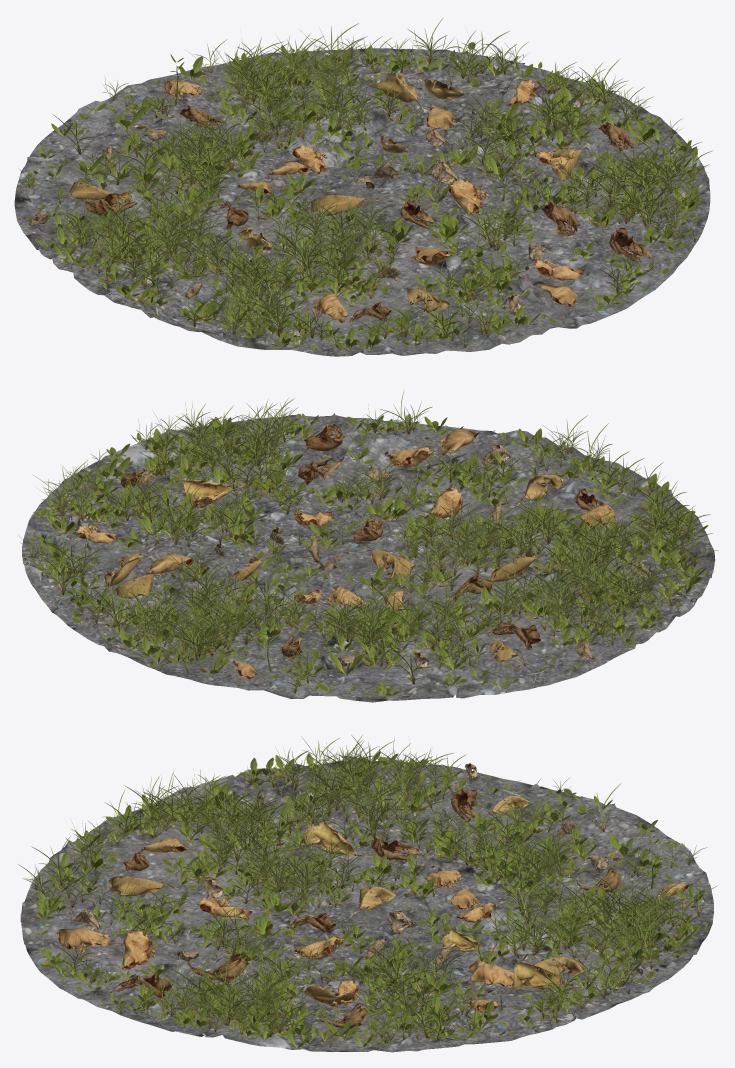
Rendered from floor_leaves.glb.
The picture shows the model from 3 angles, top to bottom: view 1: azimuth 30°, elevation 25°; view 2: azimuth 150°, elevation 25°; view 3: azimuth 270°, elevation 25°; orthographic projection.
Parts seen in each view (by area): view 1: ground_close_08, Forest002, Forest001, s_list_01_10kuwb, s_list_01_10kuwa, s_list_04_10kuwb, s_list_04_10kuwa; view 2: Forest002, ground_close_08, Forest001, s_list_01_10kuwb, s_list_02_10kuwa, s_list_04_10kuwb, s_list_02_10kuwb, s_list_04_10kuwa, s_list_01_10kuwa; view 3: Forest002, ground_close_08, Forest001, s_list_04_10kuwa, s_list_02_10kuwb, s_list_04_10kuwb, s_list_01_10kuwa, s_list_02_10kuwa, s_list_01_10kuwb.
Part boxes in pixels (bbox=[...]): ground_close_08: bbox=[14, 44, 710, 356]; Forest002: bbox=[19, 17, 713, 351]; Forest001: bbox=[29, 66, 633, 324]; s_list_01_10kuwb: bbox=[609, 227, 654, 261]; s_list_01_10kuwa: bbox=[541, 200, 578, 236]; s_list_04_10kuwb: bbox=[402, 287, 449, 312]; s_list_04_10kuwa: bbox=[415, 77, 465, 99]; Forest002: bbox=[19, 390, 718, 698]; ground_close_08: bbox=[22, 413, 715, 702]; Forest001: bbox=[75, 443, 652, 679]; s_list_01_10kuwb: bbox=[304, 424, 344, 451]; s_list_02_10kuwa: bbox=[419, 487, 462, 519]; s_list_04_10kuwb: bbox=[516, 474, 564, 505]; s_list_02_10kuwb: bbox=[439, 429, 494, 457]; s_list_04_10kuwa: bbox=[101, 553, 143, 590]; s_list_01_10kuwa: bbox=[298, 457, 344, 485]; Forest002: bbox=[18, 735, 717, 1048]; ground_close_08: bbox=[20, 755, 713, 1052]; Forest001: bbox=[72, 763, 696, 1028]; s_list_04_10kuwa: bbox=[512, 962, 577, 989]; s_list_02_10kuwb: bbox=[55, 909, 110, 953]; s_list_04_10kuwb: bbox=[109, 875, 178, 896]; s_list_01_10kuwa: bbox=[187, 952, 248, 982]; s_list_02_10kuwa: bbox=[197, 897, 252, 927]; s_list_01_10kuwb: bbox=[110, 971, 172, 998].
Bounding box in the file's own units: 1.83 × 0.224 × 1.86.
Materials: 6 (6 with a texture image).
